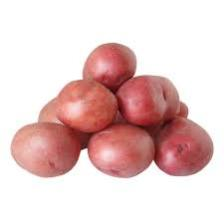Defected potato: (9, 122, 82, 180), (88, 124, 158, 180), (152, 117, 214, 178), (116, 75, 183, 128), (55, 79, 120, 133), (81, 42, 138, 94)
